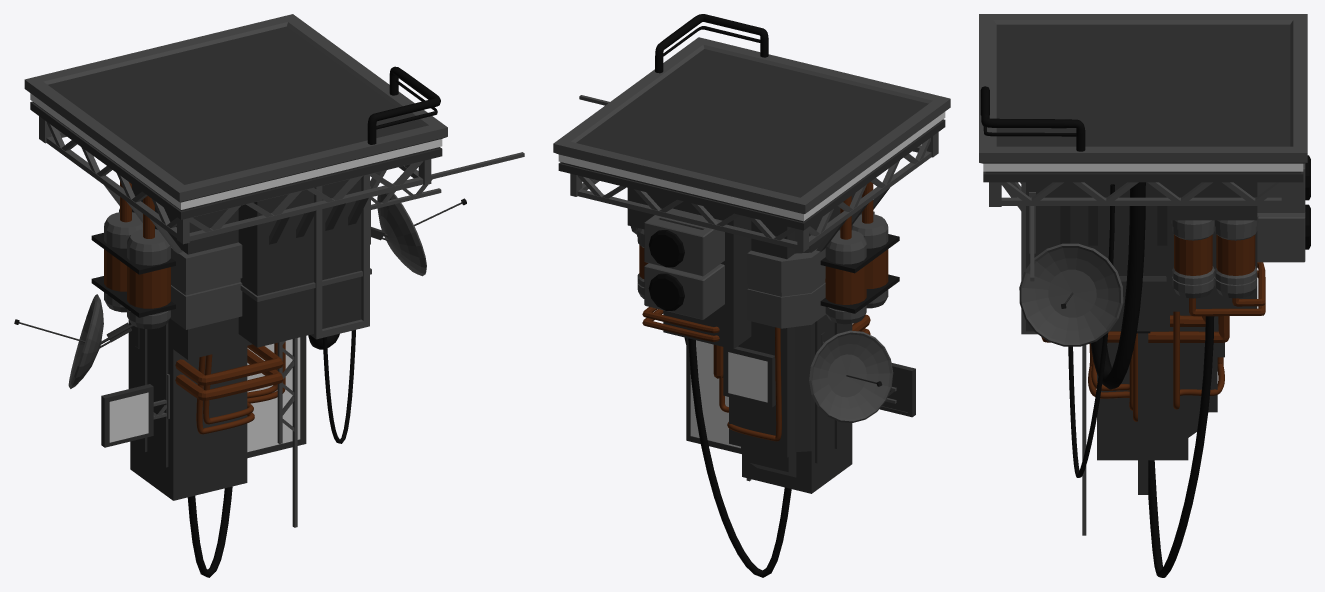
File: Platform_2x2_Cube.obj
3 renders of one model, left to right at view 1: azimuth 30°, elevation 25°; view 2: azimuth 150°, elevation 25°; view 3: azimuth 270°, elevation 25°, orthographic. The views are drawn at different scales.
Visible parts, largest first — view 1: Platform_2x2_Cube; view 2: Platform_2x2_Cube; view 3: Platform_2x2_Cube.
Part boxes in pixels (x1,y1,x2,y2): Platform_2x2_Cube: (14,14,524,577); Platform_2x2_Cube: (553,14,950,577); Platform_2x2_Cube: (979,14,1310,577).
Bounding box in the file's own units: 3.31 × 3.83 × 2.16.
